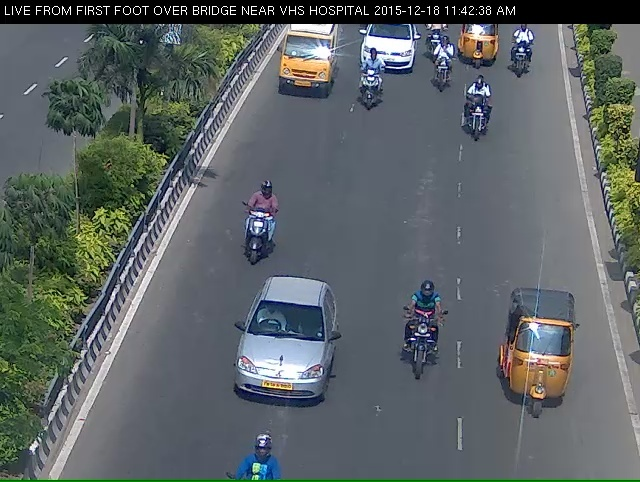Car: (225, 302, 340, 435), (496, 300, 588, 443), (272, 21, 342, 102), (357, 20, 418, 80), (357, 23, 419, 79), (458, 16, 500, 78)
Person: (395, 313, 453, 407), (234, 194, 280, 281), (461, 91, 497, 153), (421, 21, 449, 71), (421, 22, 450, 69), (513, 36, 537, 88), (358, 64, 380, 120), (430, 52, 451, 101)
